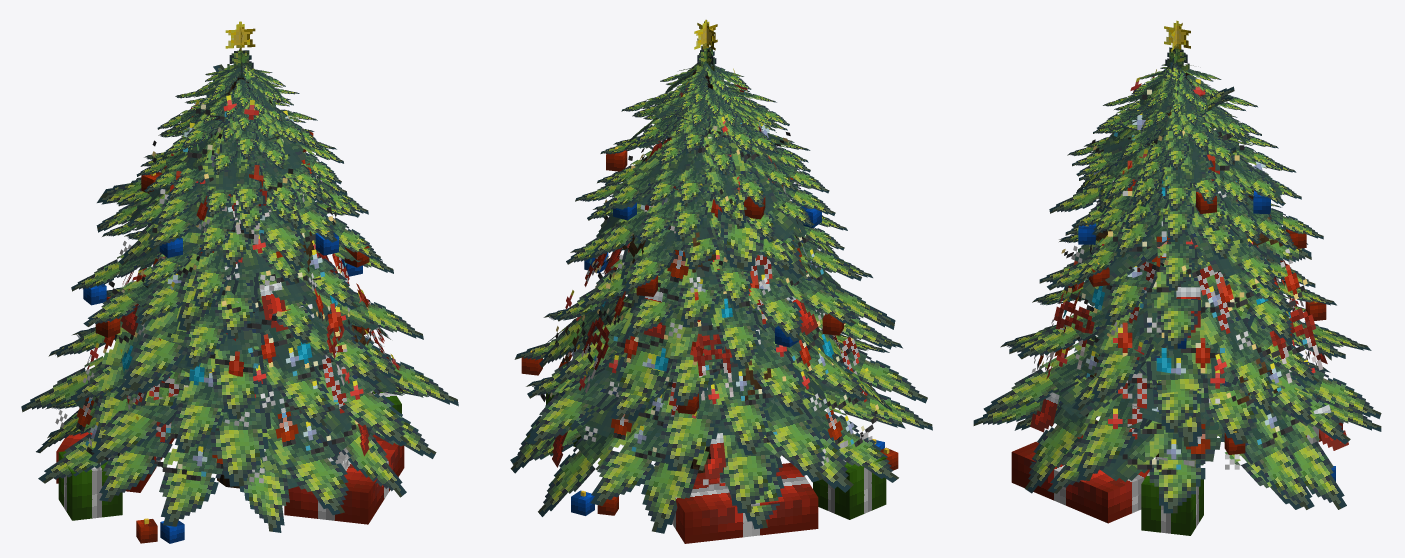
3 views of the same model, side by side, from view 1: azimuth 30°, elevation 25°; view 2: azimuth 150°, elevation 25°; view 3: azimuth 270°, elevation 25° (orthographic). The views are drawn at different scales.
Visible parts, largest first — view 1: cube (×75); view 2: cube (×66); view 3: cube (×68).
Boxes of the visible parts, <box> form: cube (×75): <box>21,64,458,532</box>; cube (×66): <box>510,103,932,543</box>; cube (×68): <box>973,69,1381,535</box>.
Bounding box in the file's own units: 1.66 × 1.85 × 1.55.
Materials: 1 (1 with a texture image).
